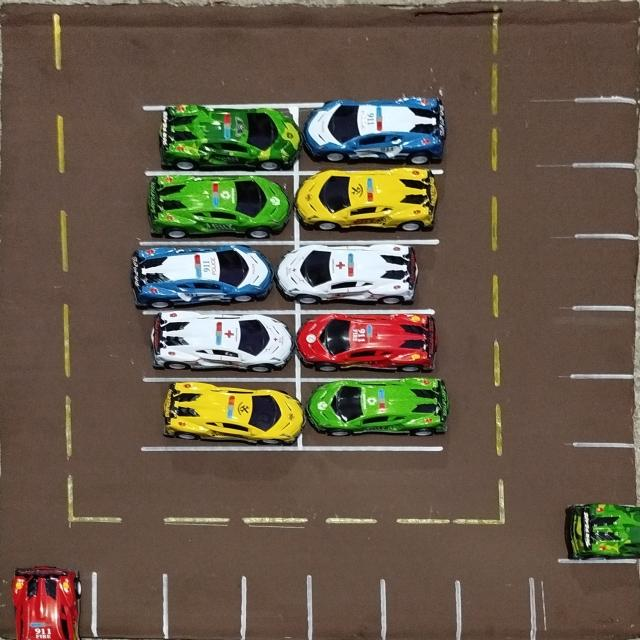libre: (163, 570, 244, 640), (93, 568, 166, 640), (571, 235, 640, 310), (569, 164, 640, 235), (570, 375, 640, 446), (310, 573, 384, 640), (571, 306, 640, 377), (570, 99, 640, 167), (457, 579, 535, 640), (382, 578, 457, 640), (244, 570, 310, 640), (572, 443, 640, 504)
ocupado: (130, 240, 297, 311), (140, 103, 298, 174), (140, 378, 298, 446), (136, 312, 296, 379), (141, 173, 294, 243), (300, 377, 443, 450), (294, 104, 448, 170), (296, 172, 441, 242), (298, 242, 437, 313), (296, 312, 440, 377), (0, 563, 92, 639), (563, 502, 640, 560)
